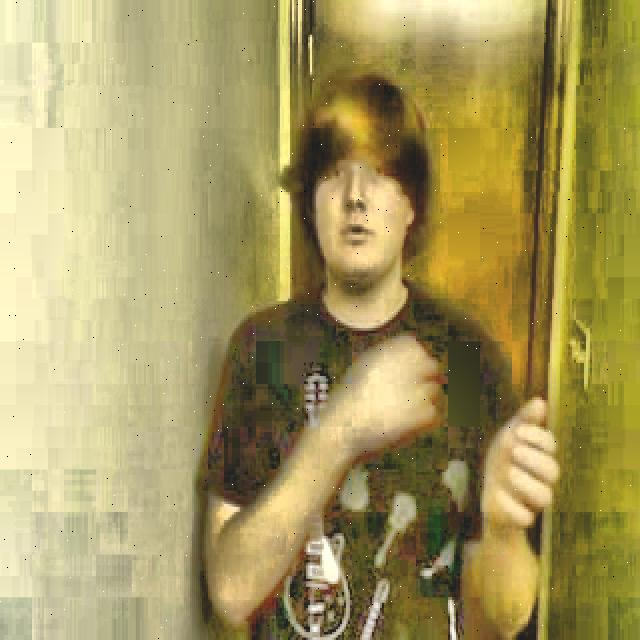F: (203, 77, 542, 640)
